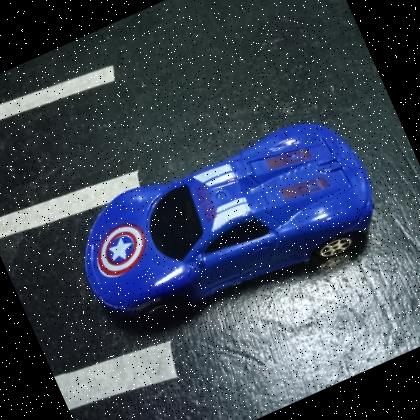Car: (84, 124, 375, 323)
